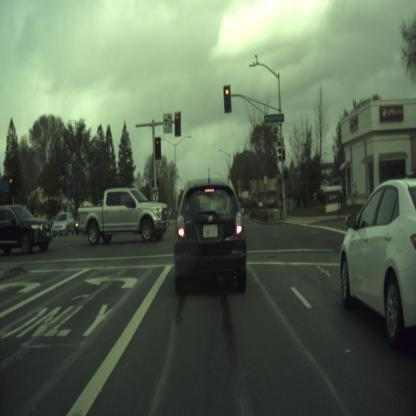Red: (223, 85, 231, 112), (282, 144, 285, 160)
RedLeft: (173, 111, 180, 135), (154, 136, 160, 158), (8, 177, 14, 196)
